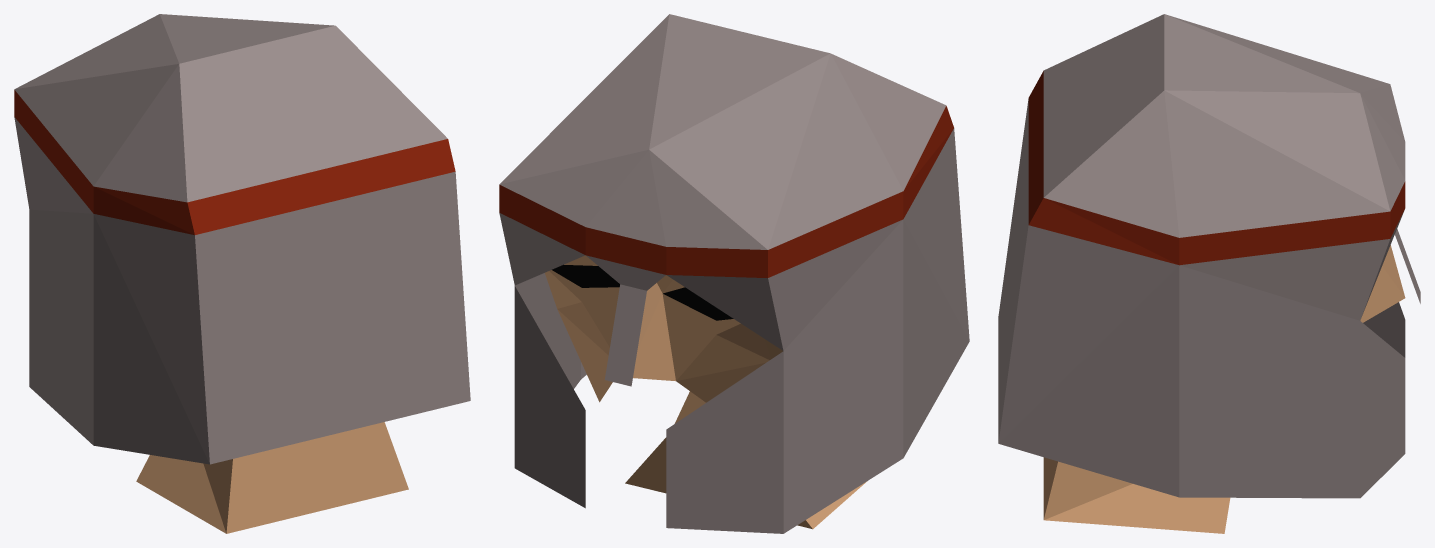
The model's file is npc_world_watchman_1_0.obj.
3 renders of one model, left to right at view 1: azimuth 30°, elevation 25°; view 2: azimuth 150°, elevation 25°; view 3: azimuth 270°, elevation 25°, orthographic. The views are drawn at different scales.
Size of the model in its own units: 0.1875 by 0.25 by 0.2188.
